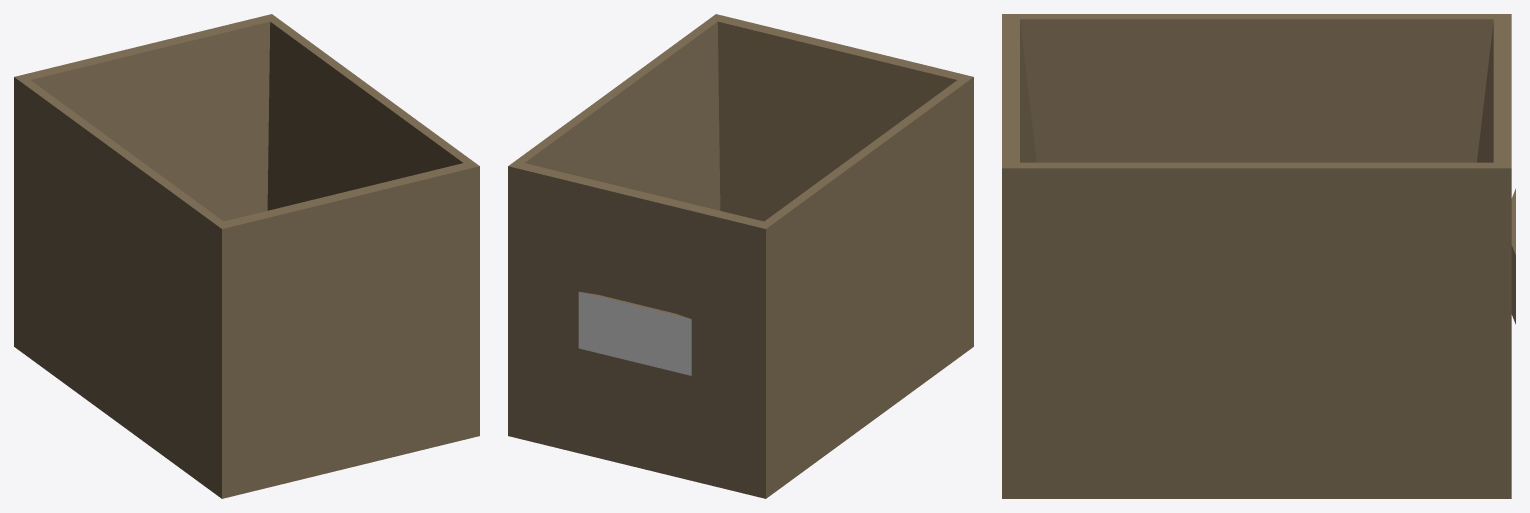
File: clean box filing.fbx
3 renders of one model, left to right at view 1: azimuth 30°, elevation 25°; view 2: azimuth 150°, elevation 25°; view 3: azimuth 270°, elevation 25°, orthographic. The views are drawn at different scales.
Parts seen in each view (by area): view 1: Cube; view 2: Cube; view 3: Cube.
Boxes of the visible parts, left/top/right/bottom form: Cube: left=14, top=14, right=479, bottom=498; Cube: left=508, top=14, right=973, bottom=498; Cube: left=1002, top=14, right=1515, bottom=498.
Bounding box in the file's own units: 200 × 200 × 282.
